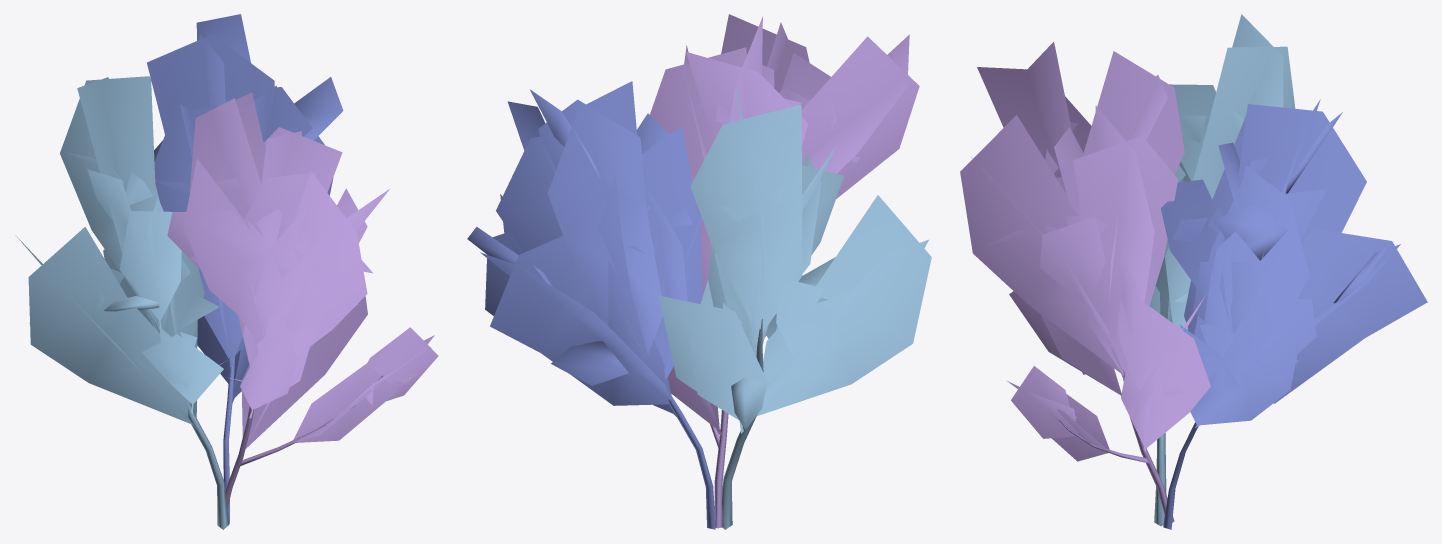
The picture shows the model from 3 angles, left to right: view 1: azimuth 30°, elevation 25°; view 2: azimuth 150°, elevation 25°; view 3: azimuth 270°, elevation 25°; orthographic projection. The views are drawn at different scales.
Parts seen in each view (by area): view 1: SM_BS_Oleander_160cm_HD; view 2: SM_BS_Oleander_160cm_HD; view 3: SM_BS_Oleander_160cm_HD.
Boxes of the visible parts, bbox=[...] form: SM_BS_Oleander_160cm_HD: bbox=[15, 14, 438, 529]; SM_BS_Oleander_160cm_HD: bbox=[467, 14, 931, 529]; SM_BS_Oleander_160cm_HD: bbox=[960, 14, 1427, 529].
Size of the model in its own units: 55.7 by 50.11 by 61.42.
